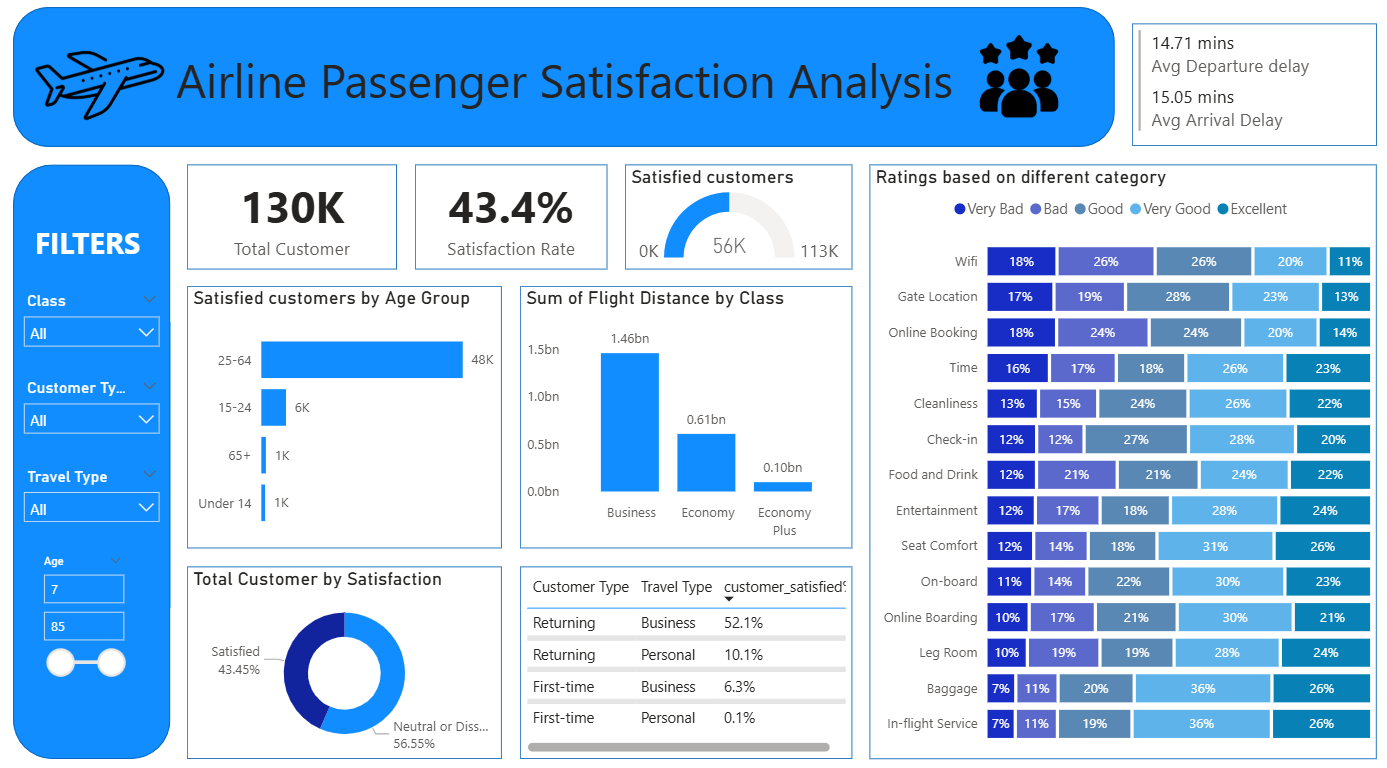

What the dashboard file says about the page in this screenshot:
{"tool":"powerbi","page":{"name":"Page 1","canvas":[1280,720],"ordinal":0},"visuals":[{"type":"shape","box":[16,16,1008,128],"z":0},{"type":"textbox","box":[160,48,736,80],"z":1000},{"type":"shape","box":[16,160,144,544],"z":2000},{"type":"card","fields":{"Values":["passenger details.Total Customer"]},"box":[176,160,192,96],"z":3000},{"type":"card","fields":{"Values":["passenger details.customer_satisfied%"]},"box":[384,160,176,96],"z":4000},{"type":"slicer","fields":{"Values":["passenger details.Class"]},"box":[16,272,144,80],"z":5000},{"type":"slicer","fields":{"Values":["passenger details.Customer Type"]},"box":[16,352,144,80],"z":6000},{"type":"slicer","fields":{"Values":["passenger details.Type of Travel"]},"box":[16,432,144,80],"z":7000},{"type":"textbox","box":[32,208,112,48],"z":8000},{"type":"tableEx","fields":{"Values":["passenger details.Customer Type","passenger details.Type of Travel","passenger details.customer_satisfied%"]},"box":[480,528,304,176],"z":9000},{"type":"columnChart","fields":{"Y":["Sum(passenger details.Flight Distance)"],"Category":["passenger details.Class"]},"box":[480,272,304,240],"z":10000},{"type":"barChart","fields":{"Y":["passenger details.Satisfied customers"],"Category":["passenger details.Age Group"]},"box":[176,272,288,240],"z":11000},{"type":"donutChart","fields":{"Category":["passenger details.Satisfaction"],"Y":["passenger details.Total Customer"]},"box":[176,528,288,176],"z":12000},{"type":"gauge","fields":{"Y":["passenger details.Satisfied customers"]},"box":[576,160,208,96],"z":13000},{"type":"slicer","fields":{"Values":["passenger details.Age"]},"box":[32,512,96,128],"z":14000},{"type":"multiRowCard","fields":{"Values":["passenger details.Avg Departure delay","passenger details.Avg Arrival delay"]},"box":[1040,32,224,112],"z":15000},{"type":"hundredPercentStackedBarChart","title":"Ratings based on different category","fields":{"Category":["Category.Rating Category"],"Y":["passenger details.count_very_bad","passenger details.count_bad","passenger details.count_good","passenger details.count_very_good","passenger details.count_excellent"]},"box":[800,160,464,544],"z":16000},{"type":"image","box":[32,0,128,176],"z":17000},{"type":"image","box":[864,32,144,96],"z":18000}]}

Visuals, with their boxes in screenshot pixels (x1, y1, x2, y2), scaled from the page's 1280x720 canvas onto the 1387x768 screenshot:
shape: bbox(17, 17, 1110, 154)
textbox: bbox(173, 51, 971, 137)
shape: bbox(17, 171, 173, 751)
card - passenger details.Total Customer: bbox(191, 171, 399, 273)
card - passenger details.customer_satisfied%: bbox(416, 171, 607, 273)
slicer - passenger details.Class: bbox(17, 290, 173, 375)
slicer - passenger details.Customer Type: bbox(17, 375, 173, 461)
slicer - passenger details.Type of Travel: bbox(17, 461, 173, 546)
textbox: bbox(35, 222, 156, 273)
tableEx - passenger details.Customer Type x passenger details.Type of Travel: bbox(520, 563, 850, 751)
columnChart - Sum(passenger details.Flight Distance) x passenger details.Class: bbox(520, 290, 850, 546)
barChart - passenger details.Satisfied customers x passenger details.Age Group: bbox(191, 290, 503, 546)
donutChart - passenger details.Satisfaction x passenger details.Total Customer: bbox(191, 563, 503, 751)
gauge - passenger details.Satisfied customers: bbox(624, 171, 850, 273)
slicer - passenger details.Age: bbox(35, 546, 139, 683)
multiRowCard - passenger details.Avg Departure delay x passenger details.Avg Arrival delay: bbox(1127, 34, 1370, 154)
"Ratings based on different category" hundredPercentStackedBarChart: bbox(867, 171, 1370, 751)
image: bbox(35, 0, 173, 188)
image: bbox(936, 34, 1092, 137)
